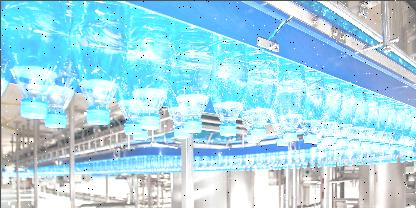Plastic Bottle: (4, 0, 70, 118), (70, 0, 126, 126), (127, 5, 173, 129), (172, 23, 214, 132), (214, 42, 248, 136), (243, 52, 279, 138), (275, 65, 305, 141), (298, 74, 326, 142), (317, 80, 341, 144), (334, 86, 356, 145), (347, 90, 367, 146)
